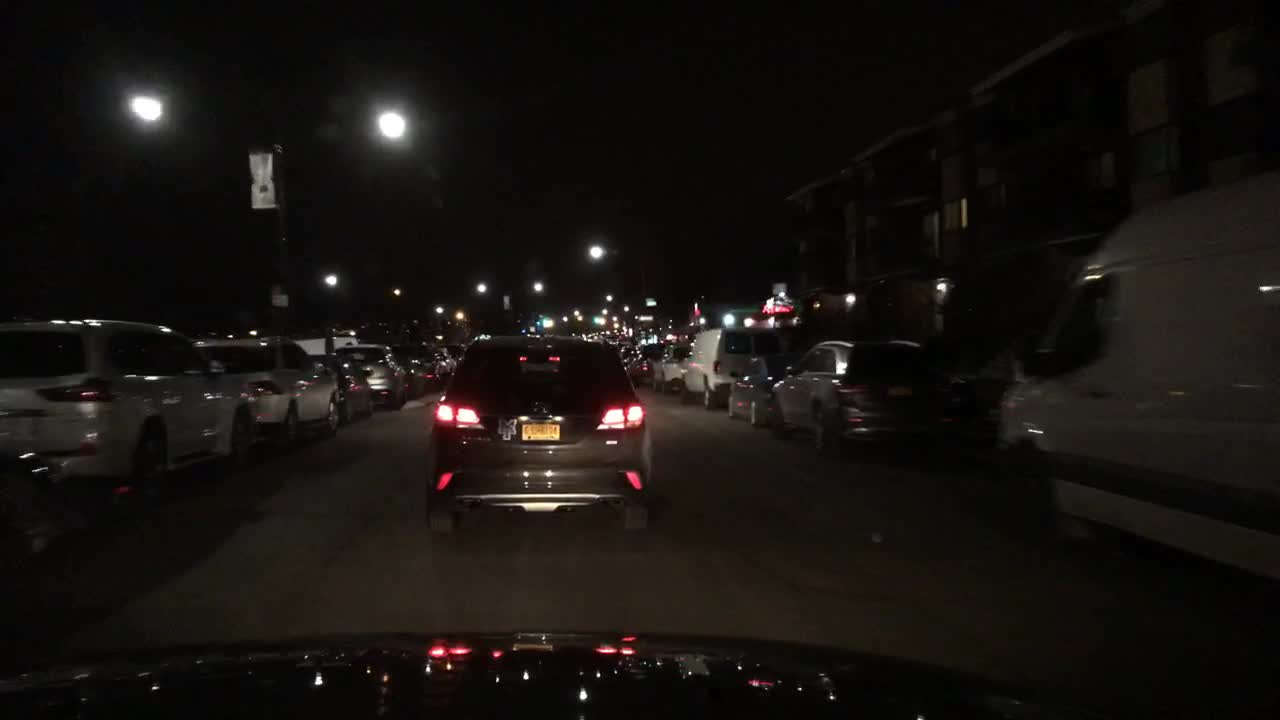car: (996, 179, 1278, 581), (2, 319, 260, 515), (431, 334, 649, 541), (765, 337, 977, 455), (194, 332, 339, 442), (680, 326, 788, 407), (726, 352, 794, 427), (342, 344, 407, 410), (333, 351, 374, 424), (639, 338, 693, 393), (390, 342, 435, 398), (628, 338, 664, 389), (428, 342, 456, 387), (613, 343, 633, 376), (439, 342, 467, 358)
